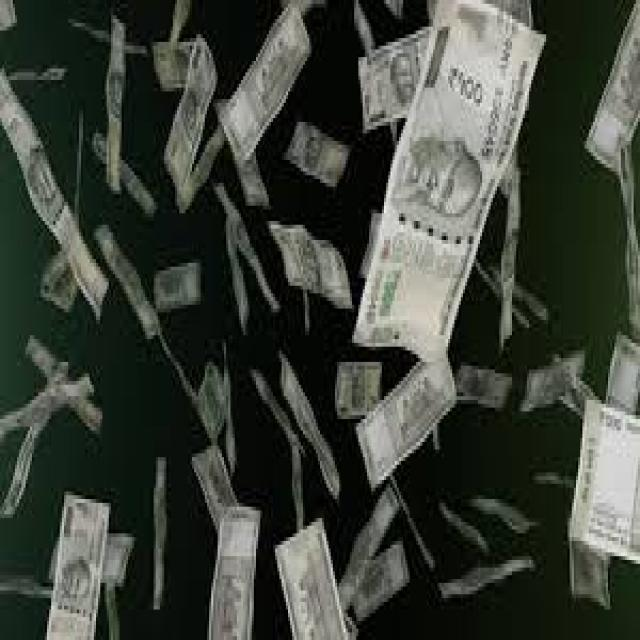money: (352, 0, 534, 350)
